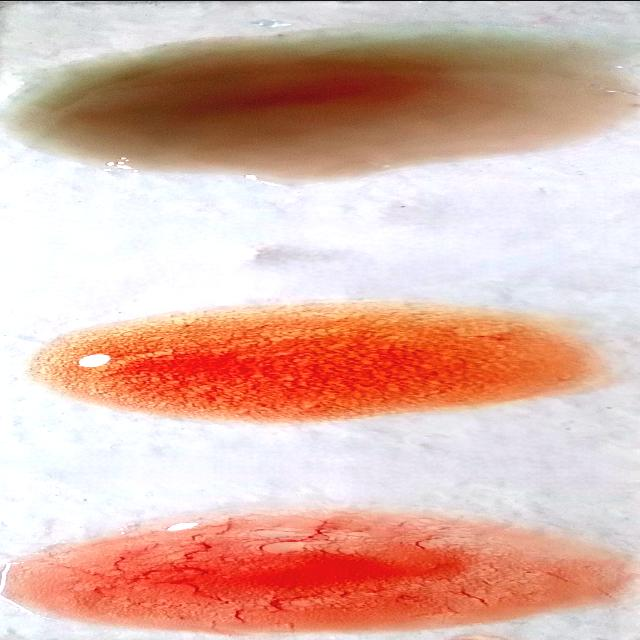B: (17, 308, 622, 419)
D: (2, 519, 634, 624)
